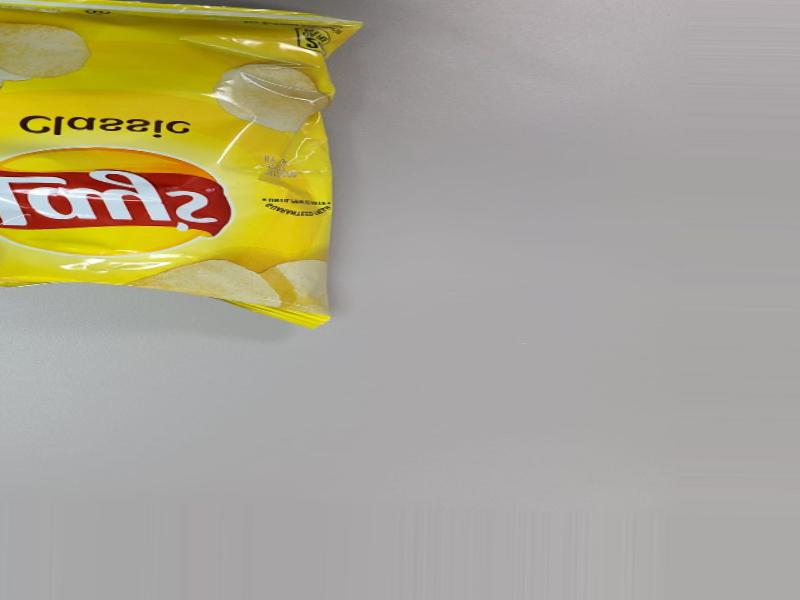lays: (0, 52, 336, 303)
